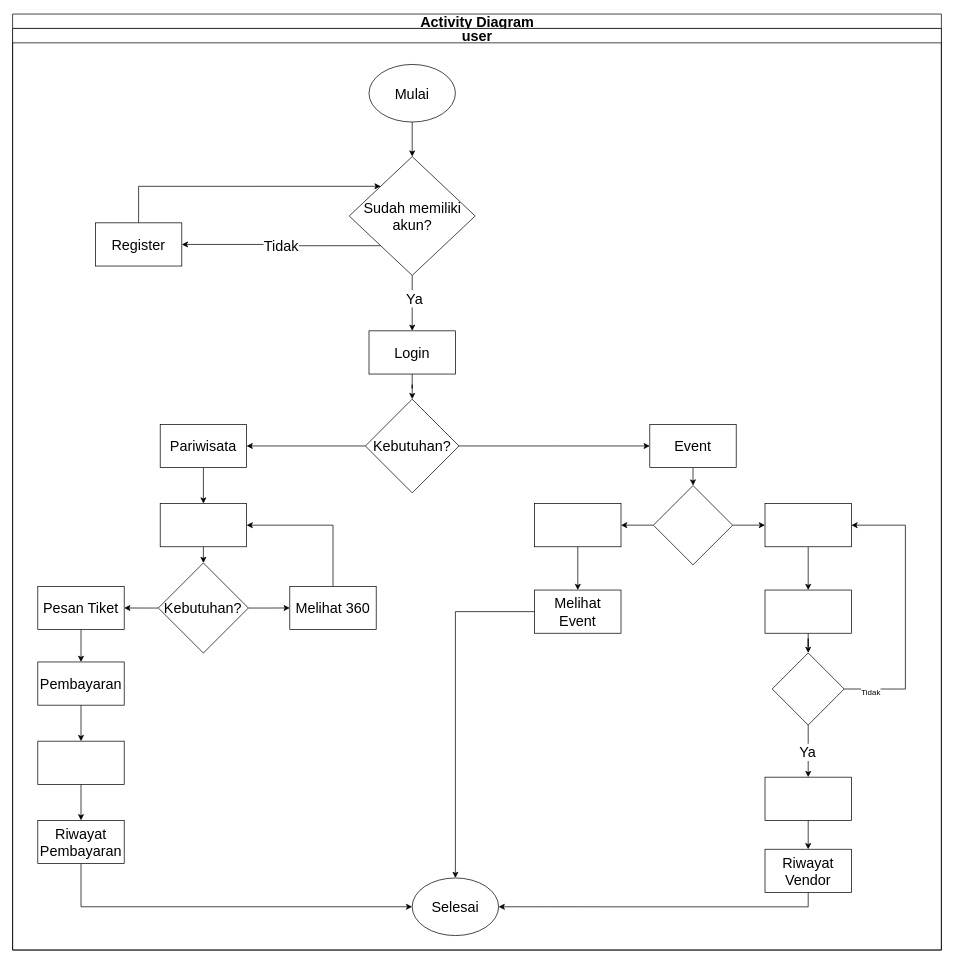
Image size: 954x963. Some labels were removed from this diagram. Here are the shapes that lost their labels. From the top down, the centre of each, then its label:
the point at 203,525: Pilih Wisata
the point at 577,525: Wisatawan
the point at 693,525: Sebagai?
the point at 807,525: Vendor
the point at 807,611: Mendaftar Vendor
the point at 807,688: Disetujui?
the point at 80,762: Tiket Saya
the point at 807,798: Mengikuti
